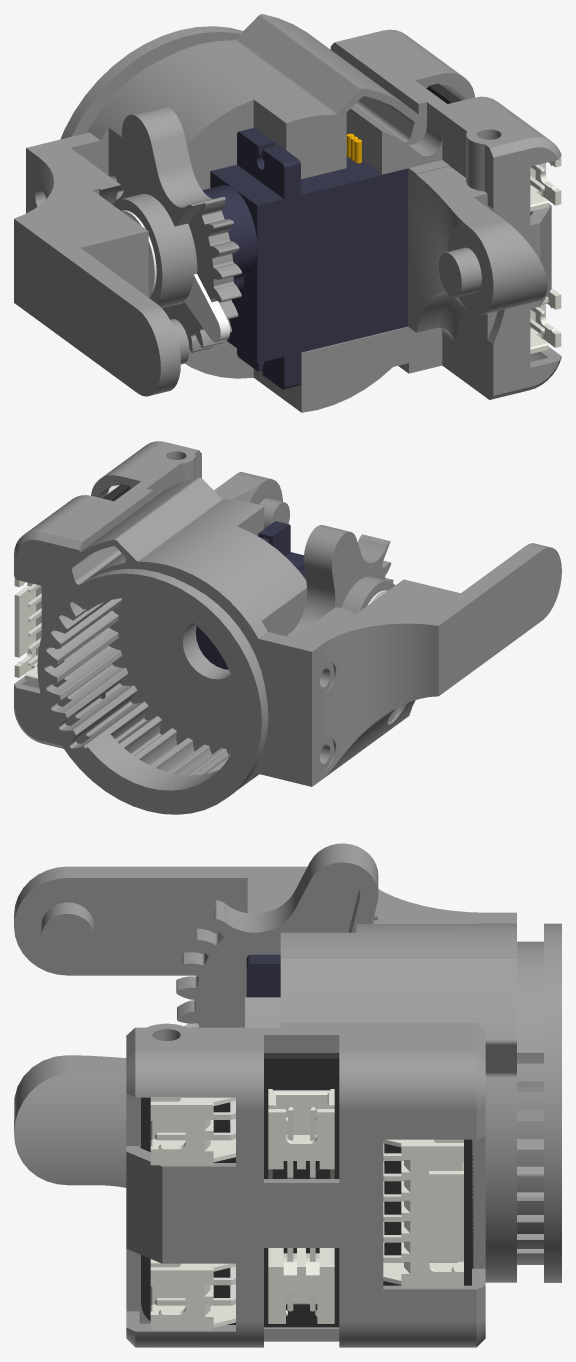
The model's file is Assy_wrist_fore.dae.
3 renders of one model, top to bottom at view 1: azimuth 30°, elevation 25°; view 2: azimuth 150°, elevation 25°; view 3: azimuth 270°, elevation 25°, orthographic. The views are drawn at different scales.
Parts seen in each view (by area): view 1: Assy_wrist_fore; view 2: Assy_wrist_fore; view 3: Assy_wrist_fore.
Boxes of the visible parts, x1=… form: Assy_wrist_fore: x1=14, y1=14, x2=561, y2=412; Assy_wrist_fore: x1=14, y1=441, x2=561, y2=814; Assy_wrist_fore: x1=14, y1=843, x2=561, y2=1347.
Bounding box in the file's own units: 0.0686 × 0.061 × 0.0423.
